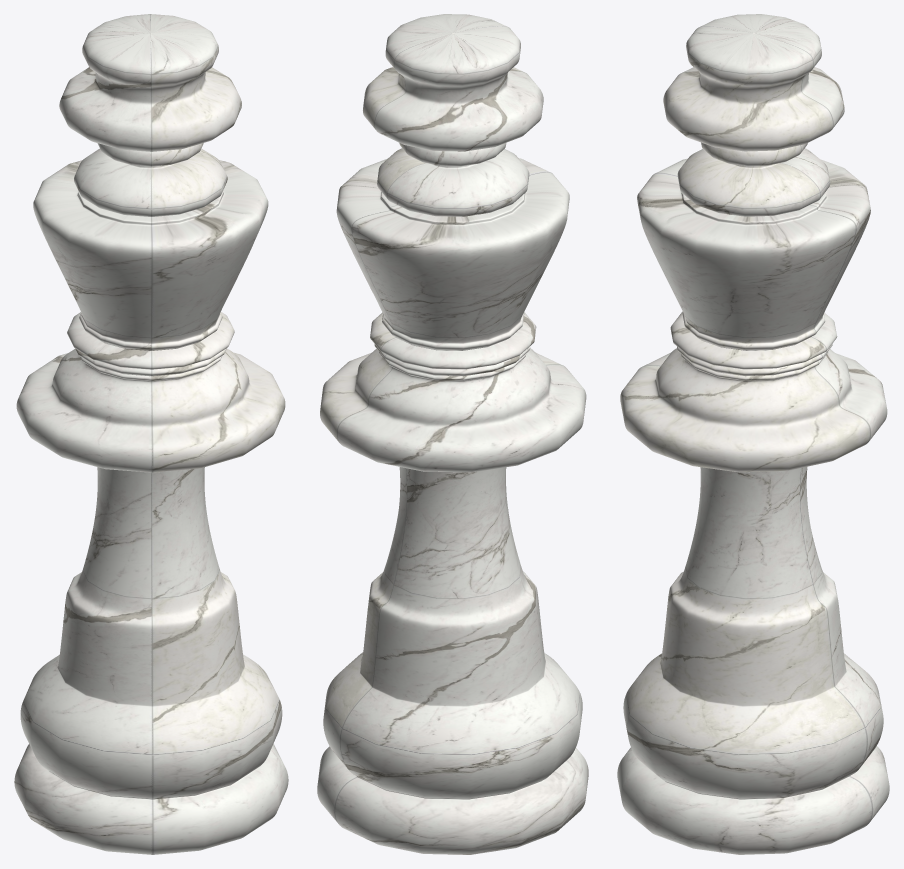
The model's file is ChessKing.fbx.
3 views of the same model, side by side, from view 1: azimuth 30°, elevation 25°; view 2: azimuth 150°, elevation 25°; view 3: azimuth 270°, elevation 25° (orthographic).
Visible parts, largest first — view 1: NurbsPath; view 2: NurbsPath; view 3: NurbsPath.
Boxes of the visible parts, x1,y1,x2,y2 form: NurbsPath: (14, 14, 288, 854); NurbsPath: (317, 14, 588, 854); NurbsPath: (617, 14, 889, 854).
Size of the model in its own units: 94.2 by 295 by 94.2.
